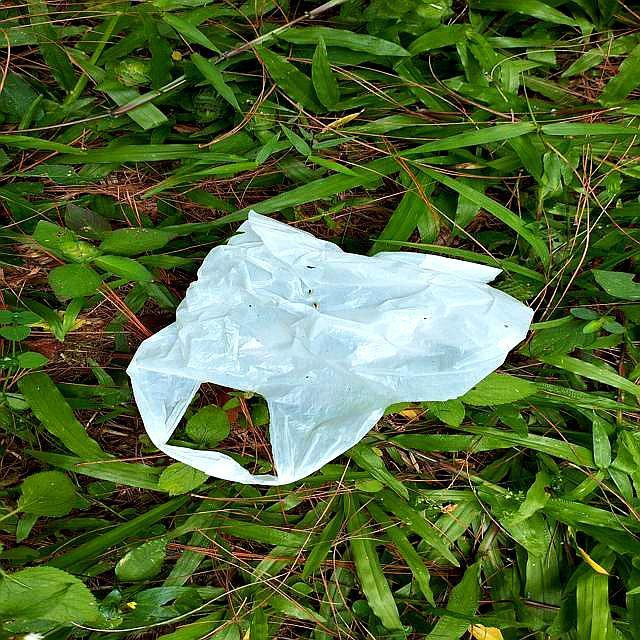Non-biodegradable: (125, 209, 537, 488)
